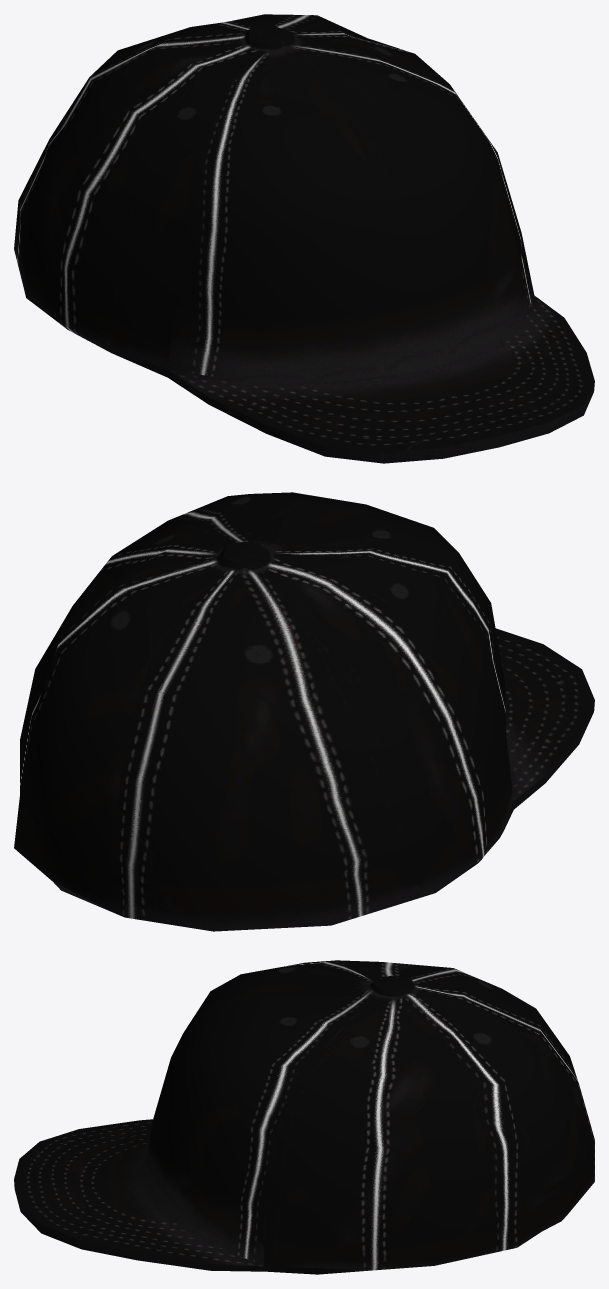
Rendered from Hat_Black.fbx.
3 views of the same model, one above another, from view 1: azimuth 30°, elevation 25°; view 2: azimuth 150°, elevation 25°; view 3: azimuth 270°, elevation 25° (orthographic). The views are drawn at different scales.
Parts seen in each view (by area): view 1: Hat_Black; view 2: Hat_Black; view 3: Hat_Black.
Part boxes in pixels (bbox=[...]): Hat_Black: bbox=[14, 14, 594, 463]; Hat_Black: bbox=[14, 492, 594, 931]; Hat_Black: bbox=[14, 960, 594, 1274].
Bounding box in the file's own units: 0.2378 × 0.1458 × 0.3546.
